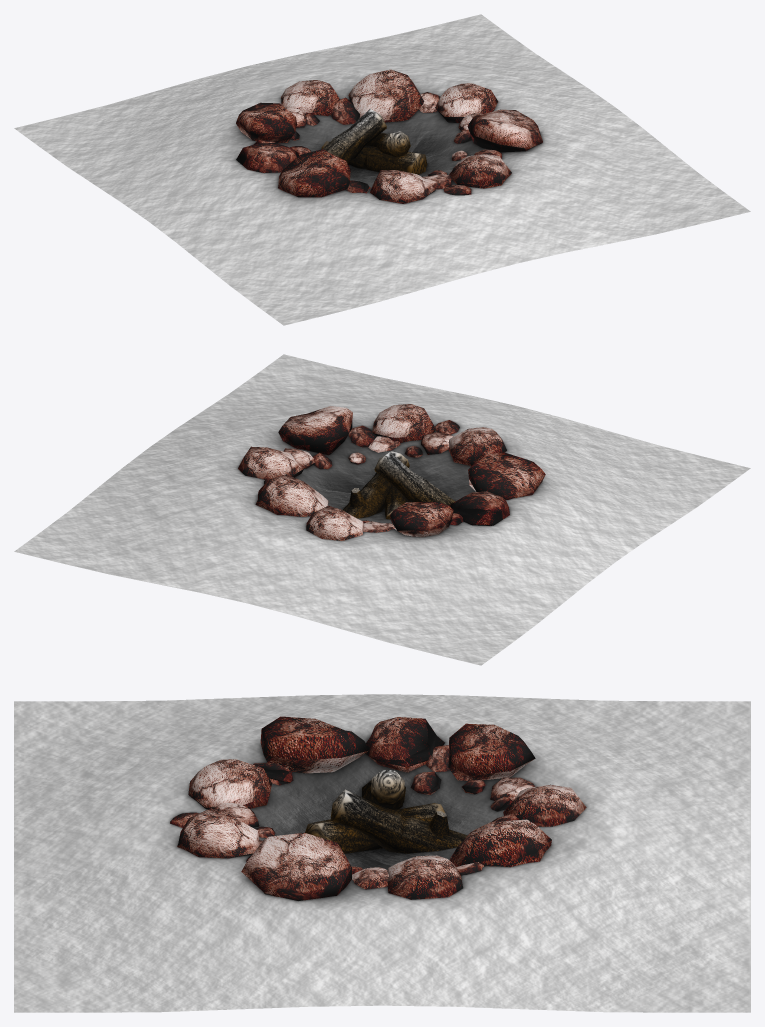
The model's file is CampFire.dae.
3 renders of one model, top to bottom at view 1: azimuth 30°, elevation 25°; view 2: azimuth 150°, elevation 25°; view 3: azimuth 270°, elevation 25°, orthographic. The views are drawn at different scales.
Visible parts, largest first — view 1: polySurface5; view 2: polySurface5; view 3: polySurface5.
Part boxes in pixels (x1,y1,x2,y2): polySurface5: (14, 14, 750, 325); polySurface5: (14, 354, 750, 665); polySurface5: (14, 694, 750, 1012).
Bounding box in the file's own units: 240 × 37.04 × 240.
